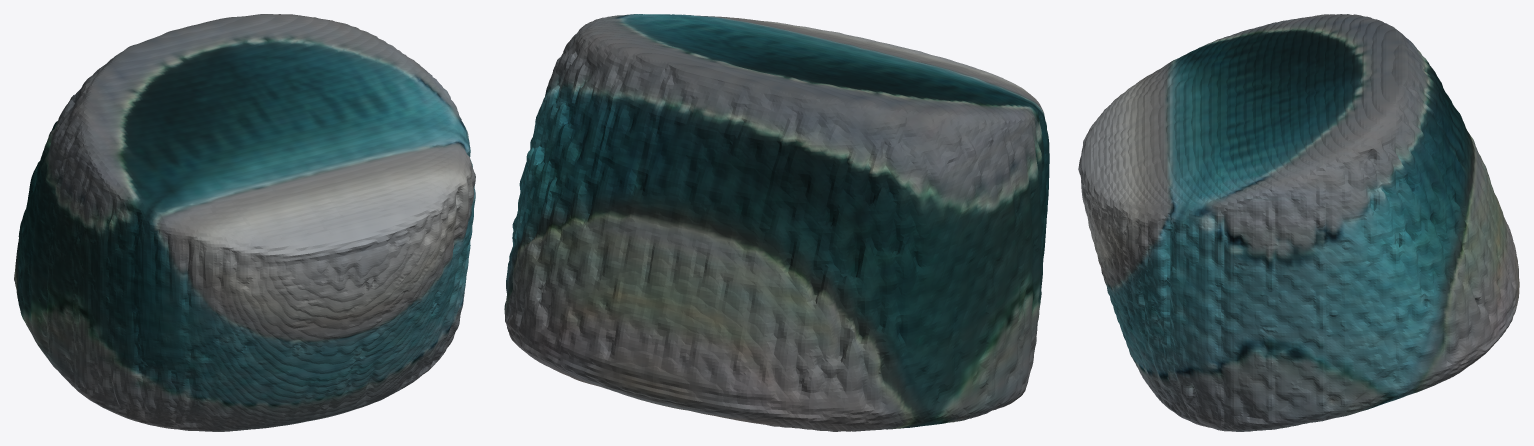
Rendered from ott-002.glb.
The picture shows the model from 3 angles, left to right: view 1: azimuth 30°, elevation 25°; view 2: azimuth 150°, elevation 25°; view 3: azimuth 270°, elevation 25°; orthographic projection. The views are drawn at different scales.
Visible parts, largest first — view 1: geometry_0; view 2: geometry_0; view 3: geometry_0.
Boxes of the visible parts, x1=… form: geometry_0: x1=14, y1=14, x2=475, y2=431; geometry_0: x1=504, y1=14, x2=1049, y2=431; geometry_0: x1=1078, y1=14, x2=1519, y2=431.
Size of the model in its own units: 55 by 42 by 55.
